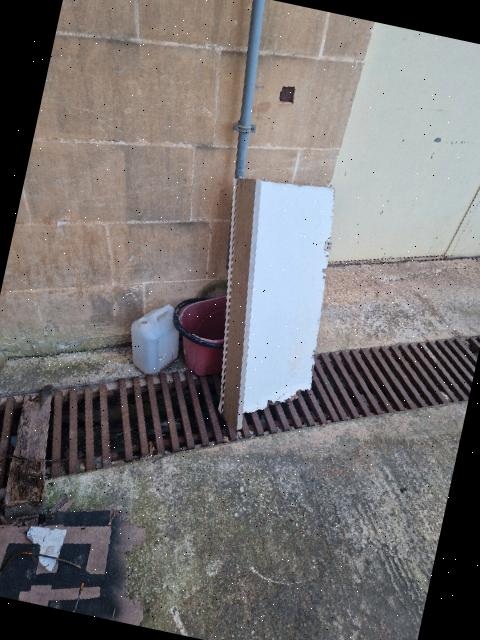Other: (220, 178, 334, 429), (179, 295, 226, 376), (131, 304, 179, 374)
